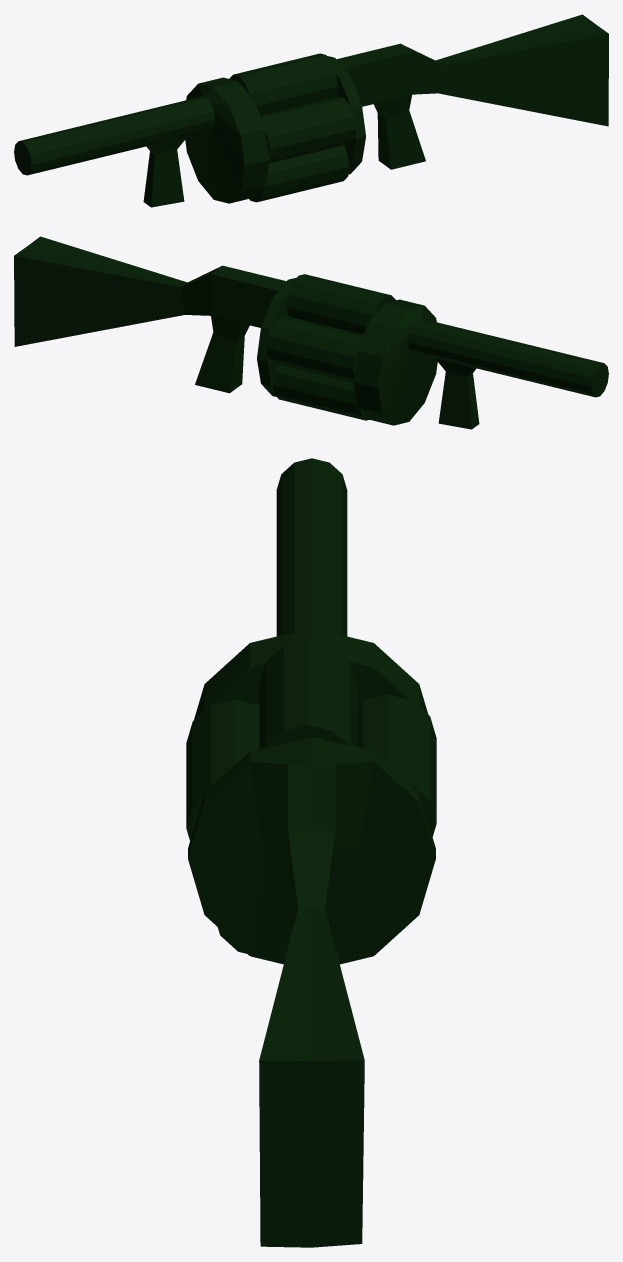
The model's file is gun_grenade.glb.
3 renders of one model, top to bottom at view 1: azimuth 30°, elevation 25°; view 2: azimuth 150°, elevation 25°; view 3: azimuth 270°, elevation 25°, orthographic. The views are drawn at different scales.
Parts seen in each view (by area): view 1: grenade_launcher; view 2: grenade_launcher; view 3: grenade_launcher.
Part boxes in pixels (x1,y1,x2,y2): grenade_launcher: (14, 14, 608, 207); grenade_launcher: (14, 236, 608, 429); grenade_launcher: (186, 458, 436, 1247).
Size of the model in its own units: 7.78 by 1.68 by 1.47.
